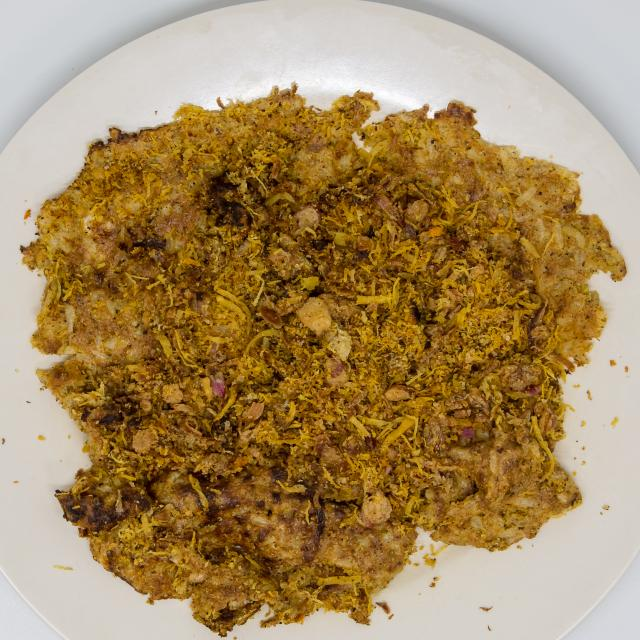Kerak-Telor: (20, 61, 631, 627)
